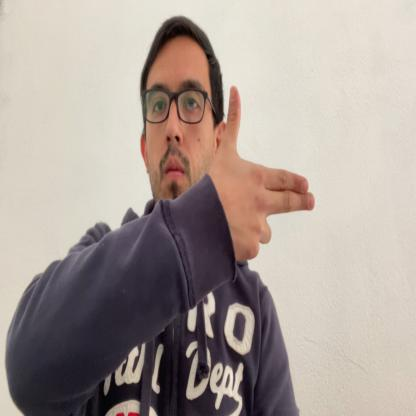H: (218, 85, 315, 263)
